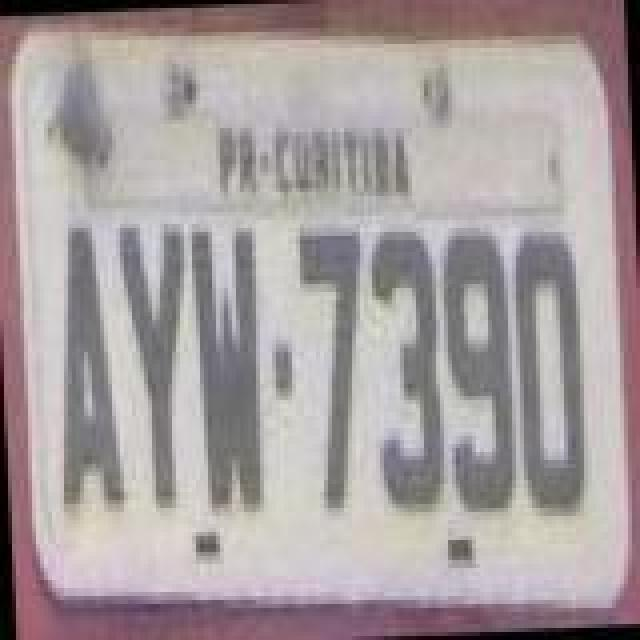3: (366, 220, 450, 516)
7: (296, 224, 376, 512)
9: (438, 224, 522, 520)
A: (48, 222, 128, 514)
O: (510, 224, 594, 520)
W: (188, 220, 268, 516)
Y: (114, 220, 198, 516)
